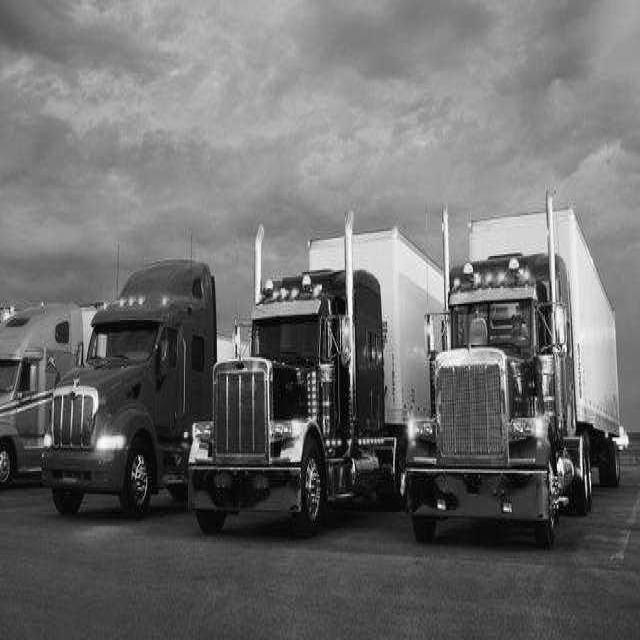Truck: (188, 216, 444, 534), (406, 191, 620, 546), (42, 260, 216, 514), (0, 302, 94, 483)
